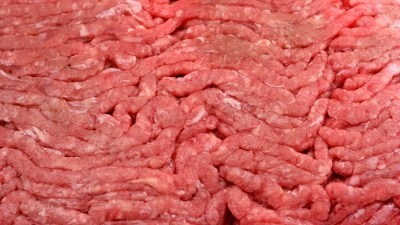ground_beef: (1, 6, 388, 212)
